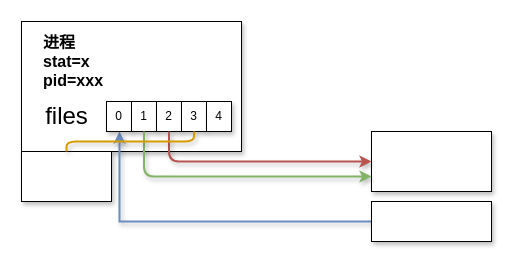
Image size: 515x266. Some labels were removed from this diagram. Here are the shapes that lost their labels. From the top down, the centre of each, then its label:
point 67,177: 硬盘
point 432,162: 显示器
point 432,222: 键盘
